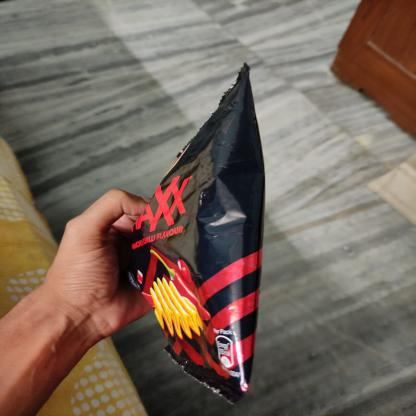max_chili: (111, 74, 280, 398)
